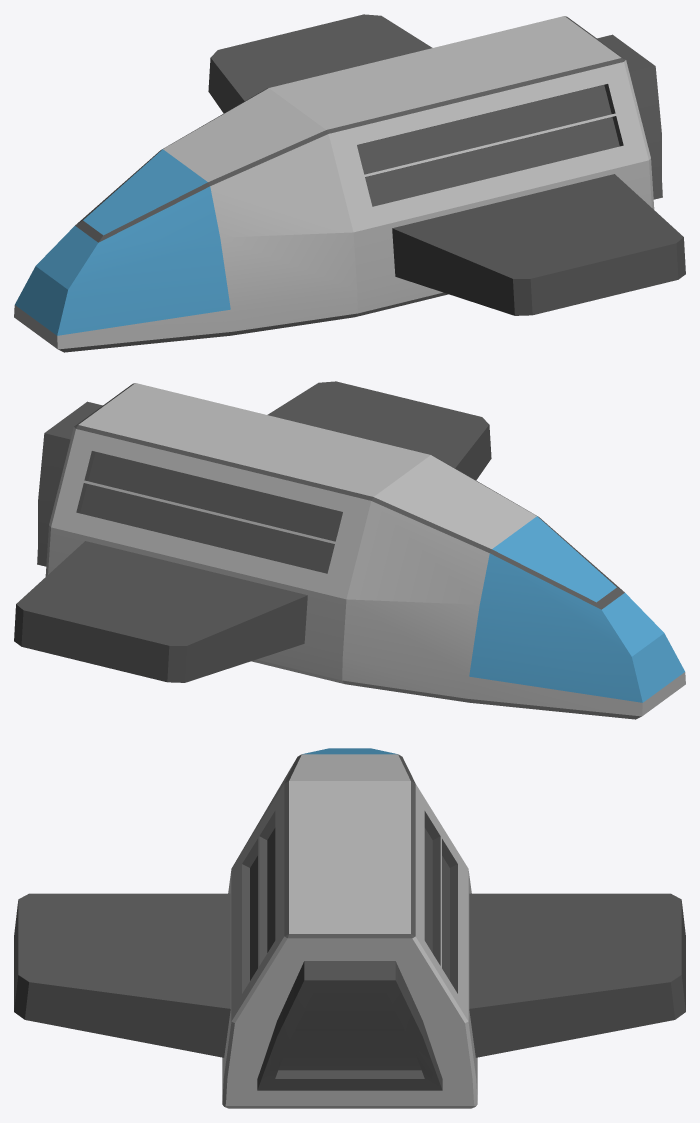
File: low_poly_space_ship_3.glb
The picture shows the model from 3 angles, top to bottom: view 1: azimuth 30°, elevation 25°; view 2: azimuth 150°, elevation 25°; view 3: azimuth 270°, elevation 25°; orthographic projection. The views are drawn at different scales.
Parts seen in each view (by area): view 1: Cube; view 2: Cube; view 3: Cube.
Boxes of the visible parts, bbox=[...] form: Cube: bbox=[14, 14, 685, 352]; Cube: bbox=[14, 381, 685, 719]; Cube: bbox=[14, 748, 685, 1108].
Size of the model in its own units: 4 by 1.06 by 3.67.
